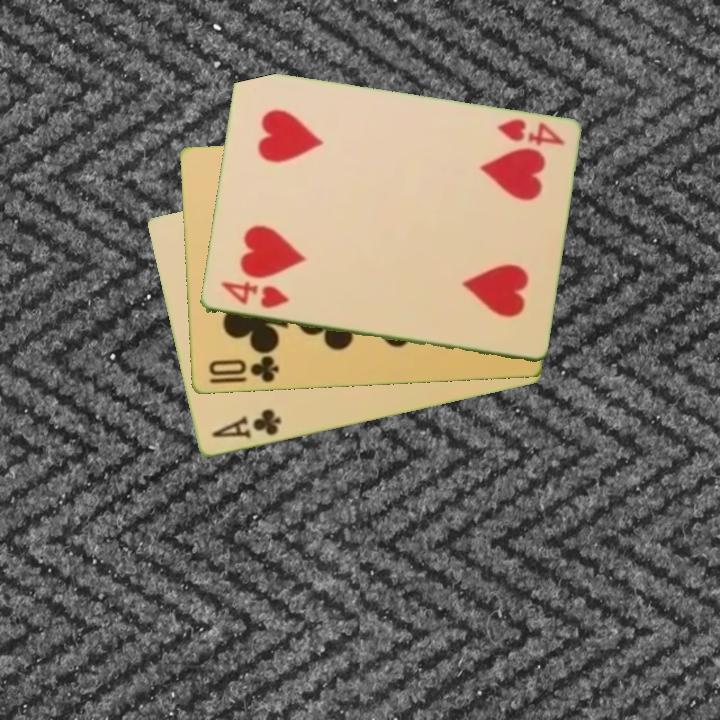10c: (205, 352, 281, 386)
4h: (217, 278, 291, 312), (493, 115, 567, 149)
Ac: (208, 405, 284, 443)
